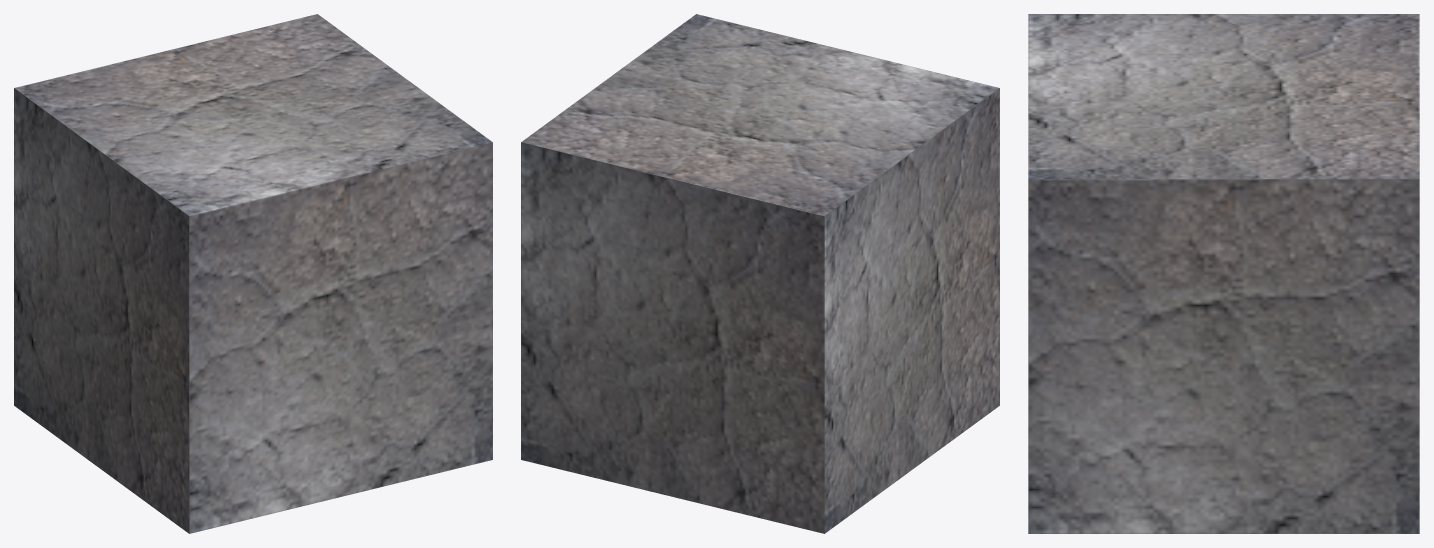
File: tiles_rock.glb
3 views of the same model, side by side, from view 1: azimuth 30°, elevation 25°; view 2: azimuth 150°, elevation 25°; view 3: azimuth 270°, elevation 25° (orthographic). The views are drawn at different scales.
Visible parts, largest first — view 1: Concrete; view 2: Concrete; view 3: Concrete.
Part boxes in pixels (box(x1,y1,x2,y2)): Concrete: box(14, 14, 492, 533); Concrete: box(521, 14, 999, 533); Concrete: box(1028, 14, 1419, 533).
Bounding box in the file's own units: 2 × 2 × 2.
1 material, 1 textured.
